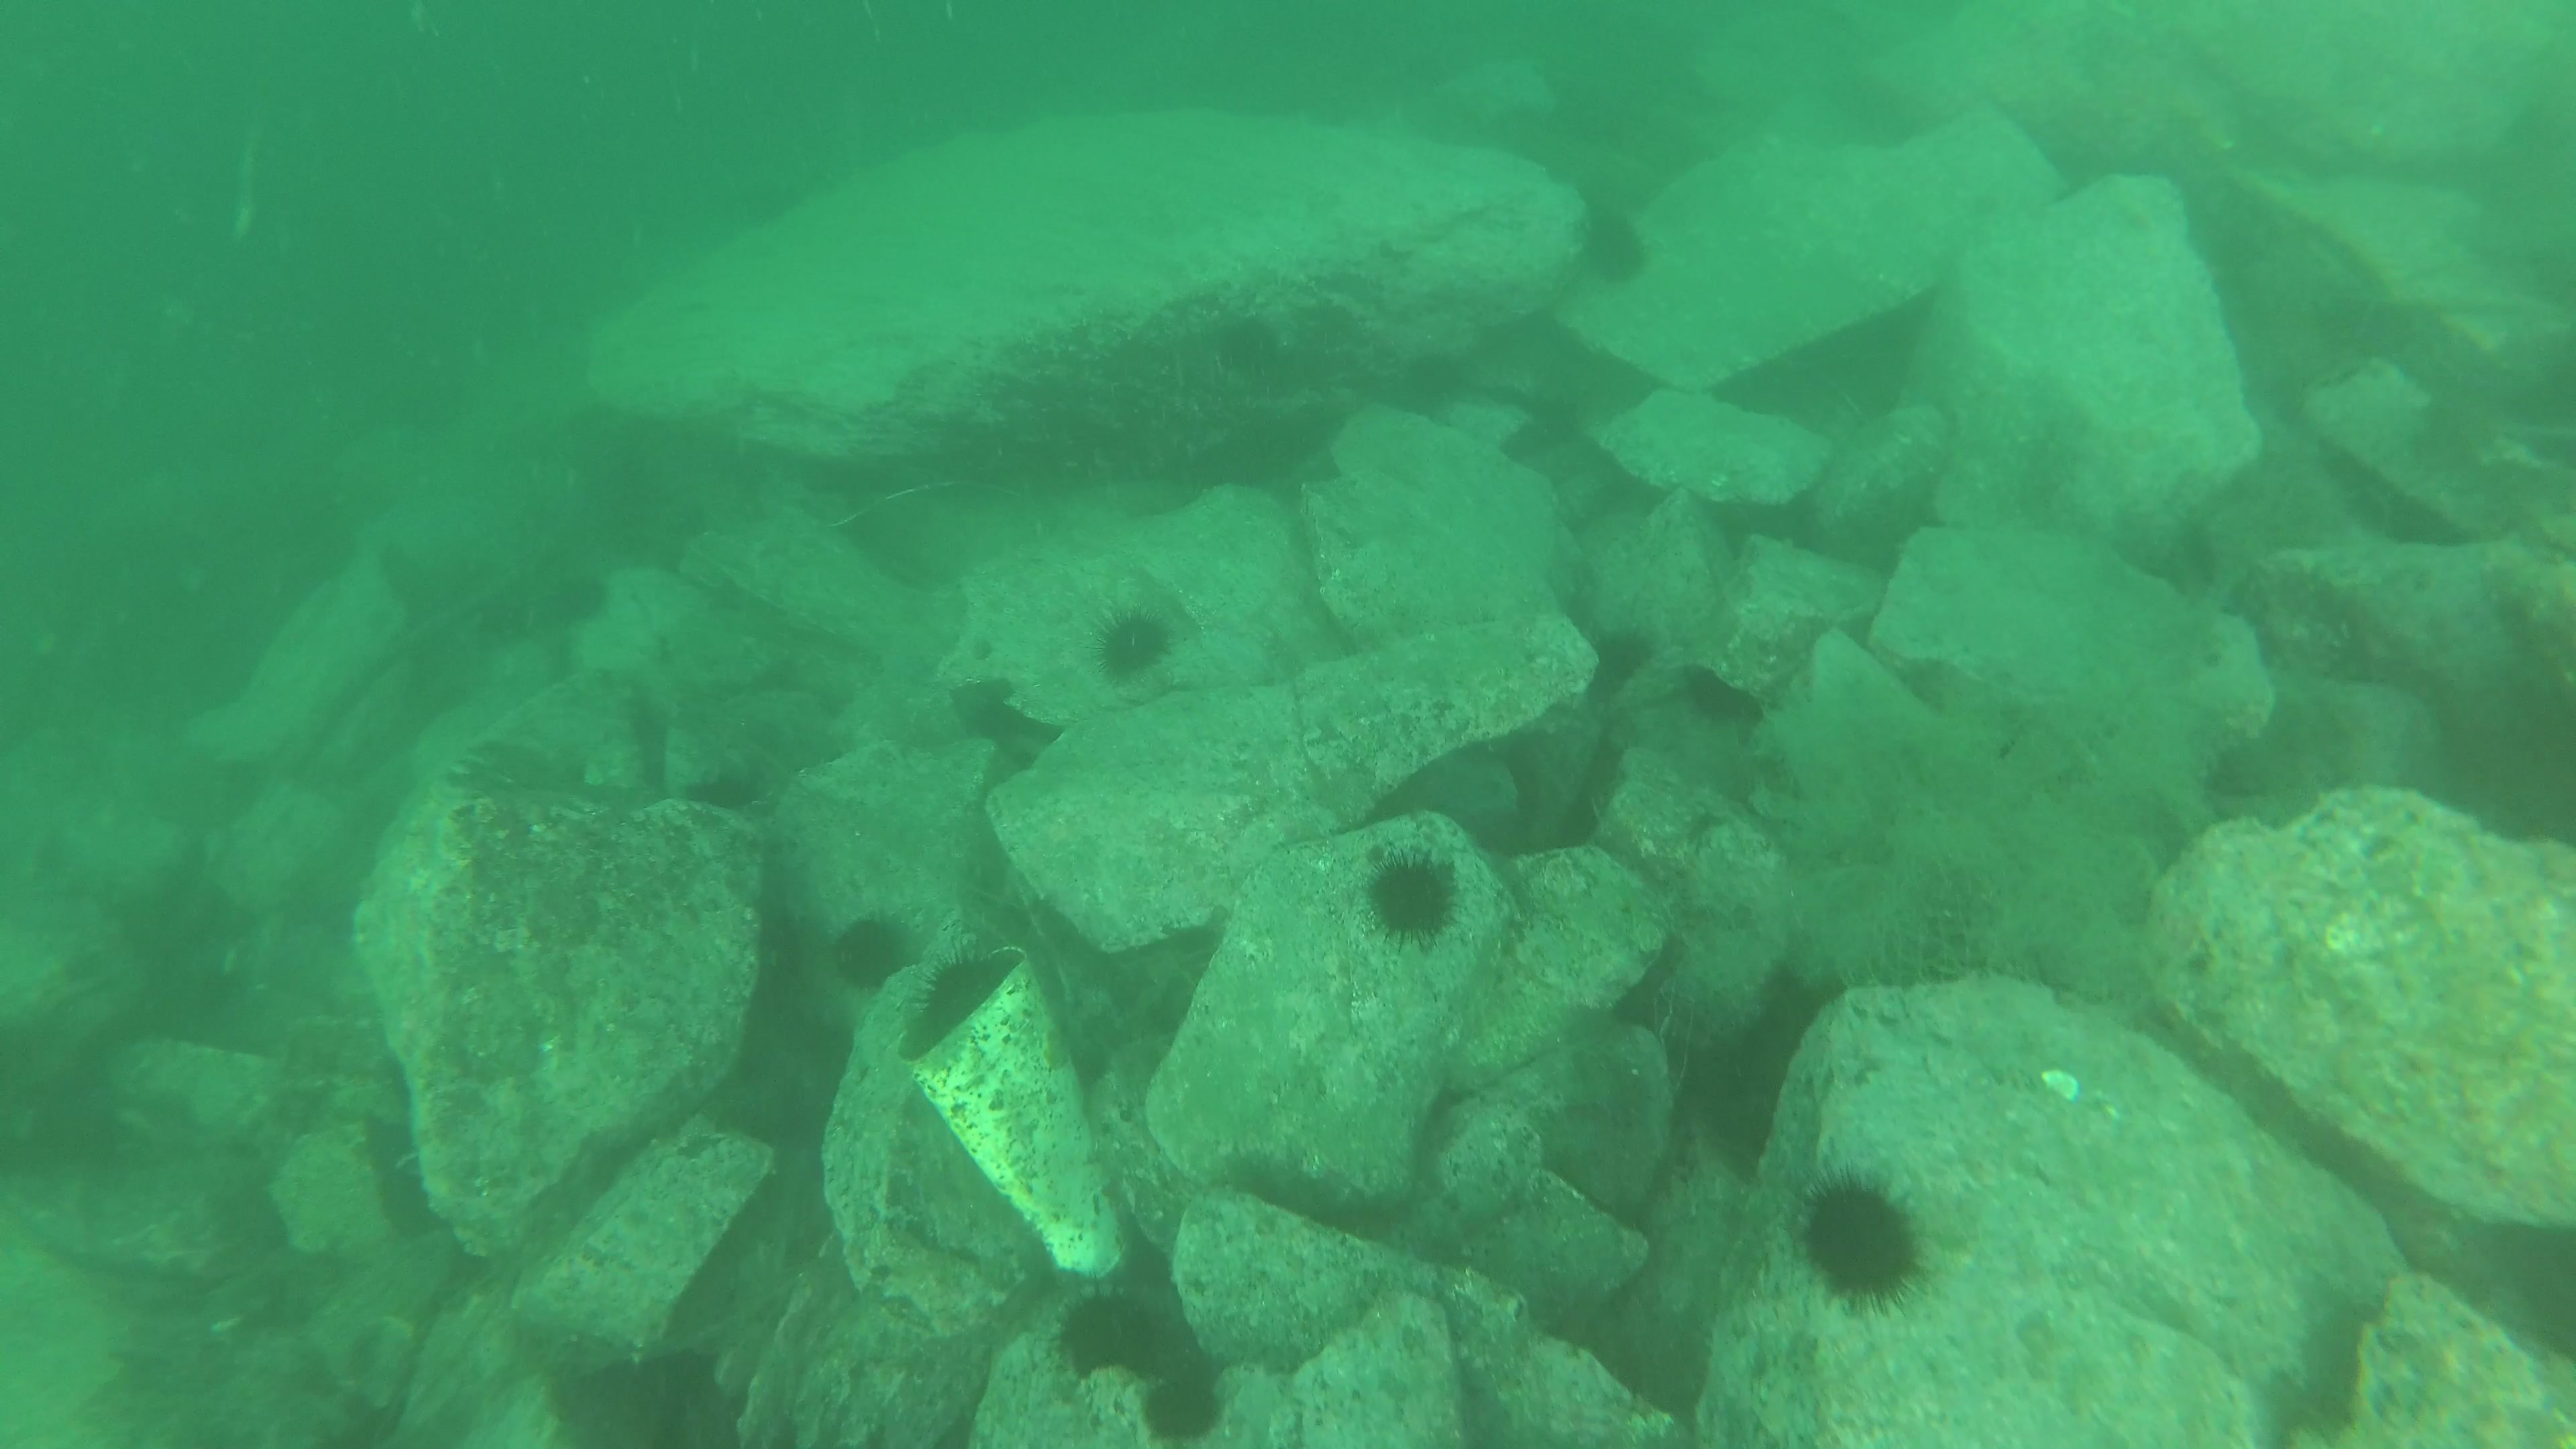echinus: (1798, 1169, 1928, 1311), (1373, 849, 1458, 941), (835, 915, 911, 991), (1580, 207, 1651, 287), (1095, 617, 1169, 685)
